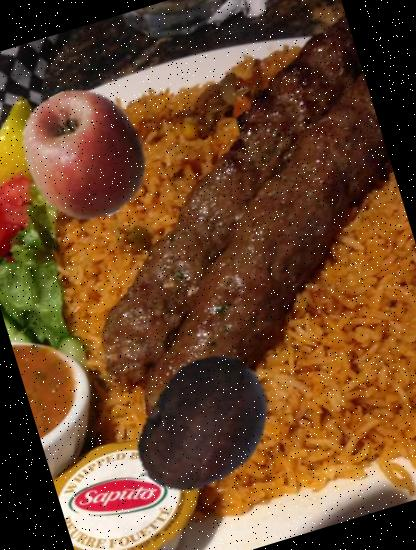Apple: (1, 70, 168, 237)
Chestnut: (112, 333, 298, 519)
